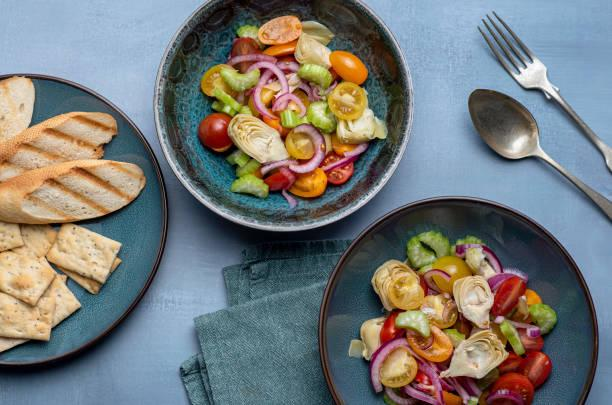Braised Crucian Carp: (149, 0, 411, 237), (319, 197, 596, 403)
